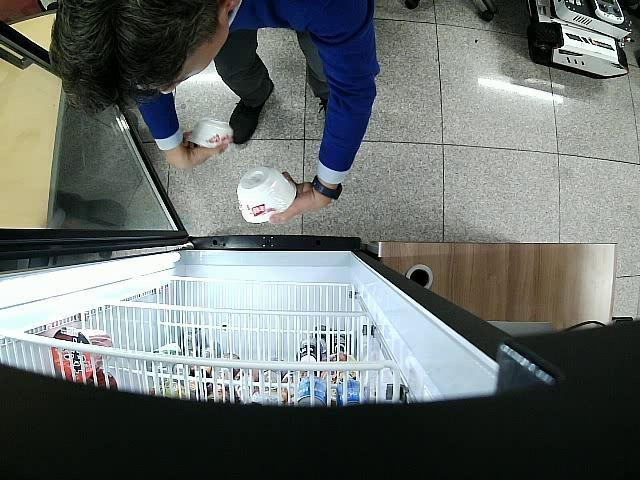09_yukGaeJang: (237, 166, 296, 224), (186, 120, 233, 148)
